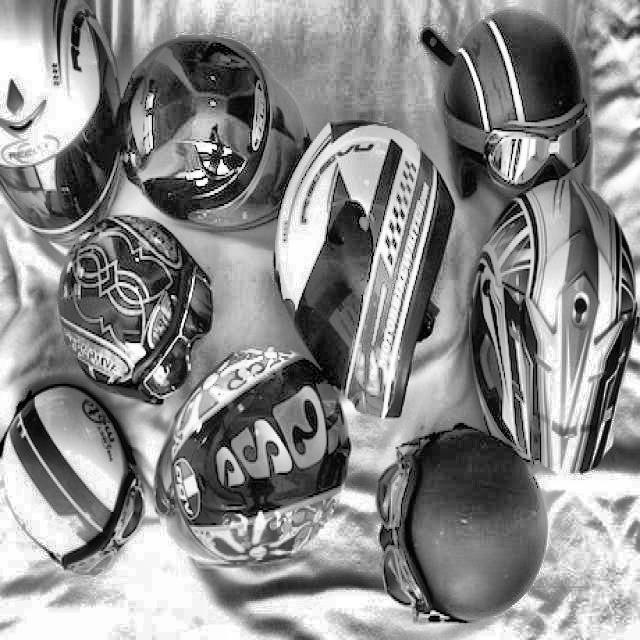Helmet: (270, 108, 458, 424), (463, 165, 640, 482), (152, 343, 355, 576), (109, 25, 316, 241), (370, 414, 553, 634), (52, 210, 219, 412), (437, 1, 595, 206), (0, 0, 129, 248), (1, 374, 148, 587)
